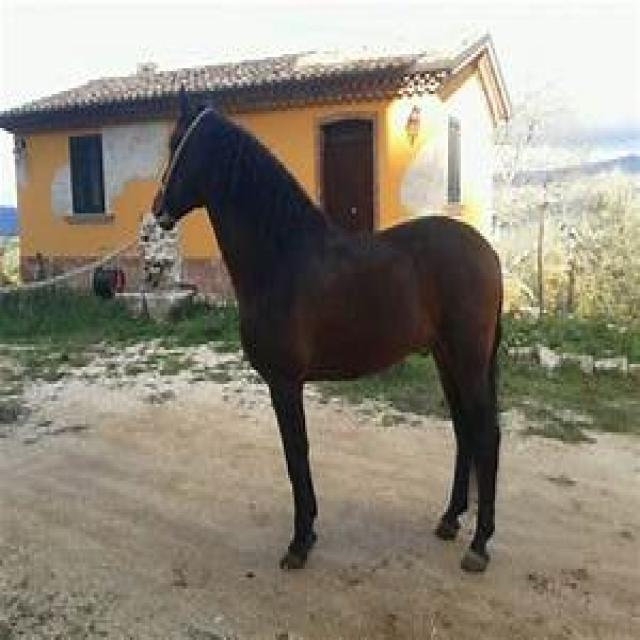horse: (149, 97, 506, 575)
